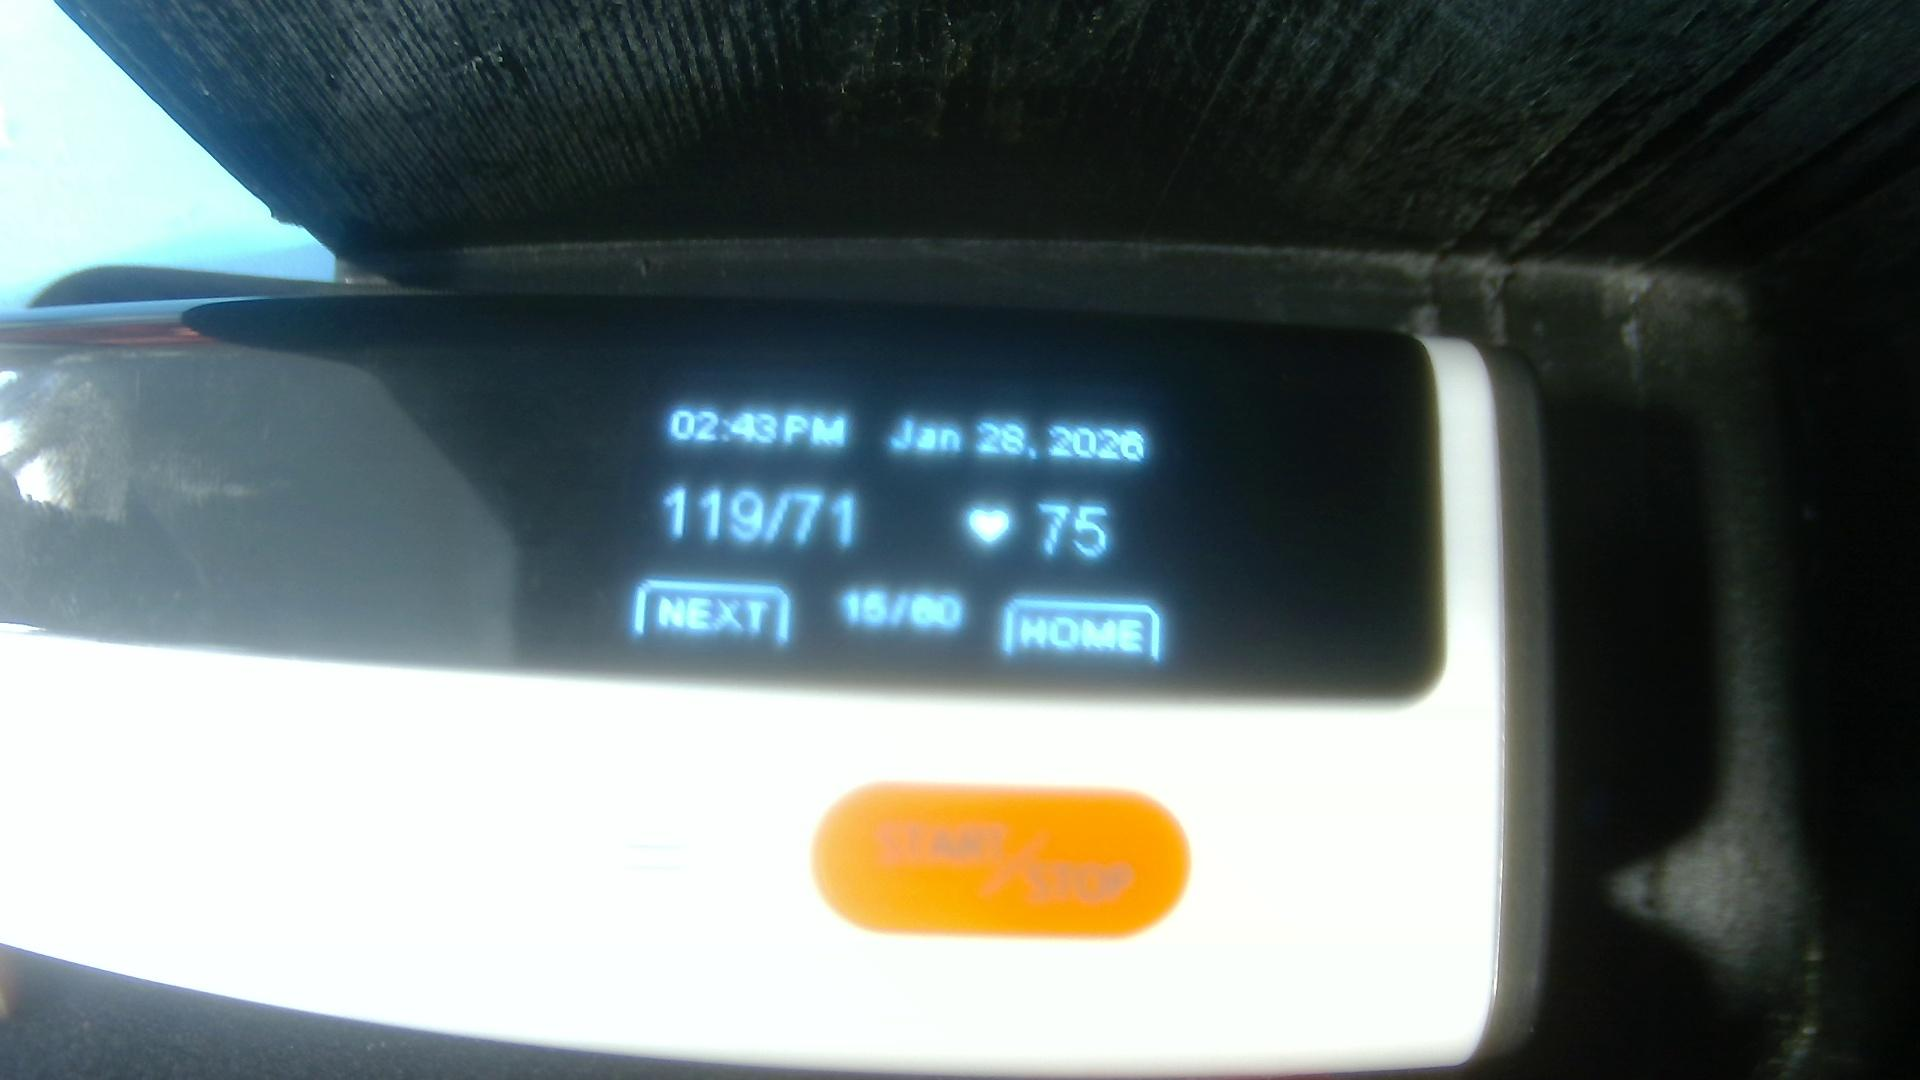DISPLAY: (4, 319, 1420, 700)
